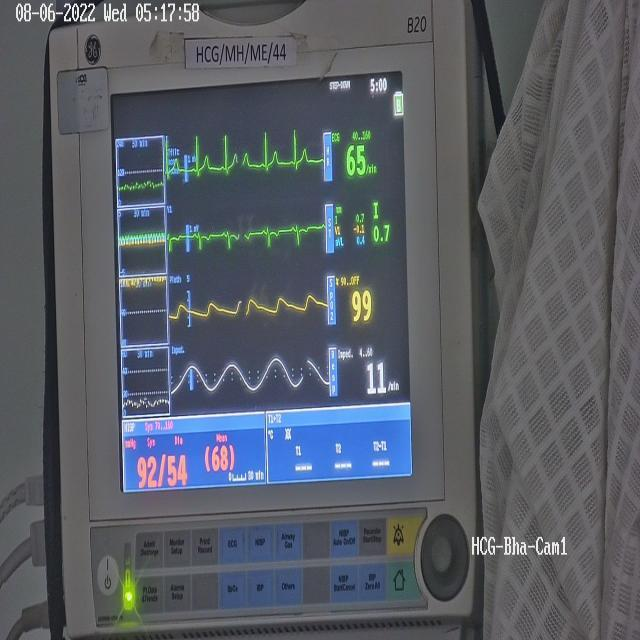Monitor: (41, 0, 483, 638)
